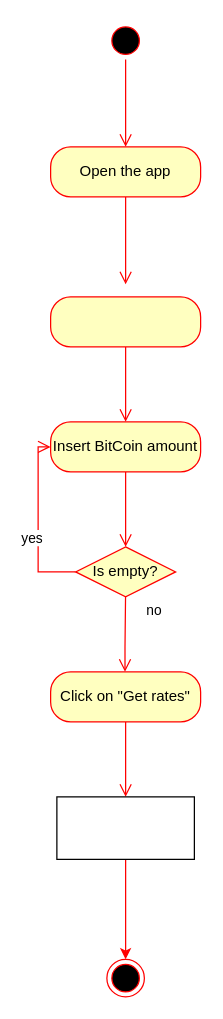
This 223x1019 diagram has some shape labels left out. Each missing label, with the centre of its shape:
"Result" goes at [125,827].
"Select currency" goes at [125,321].
